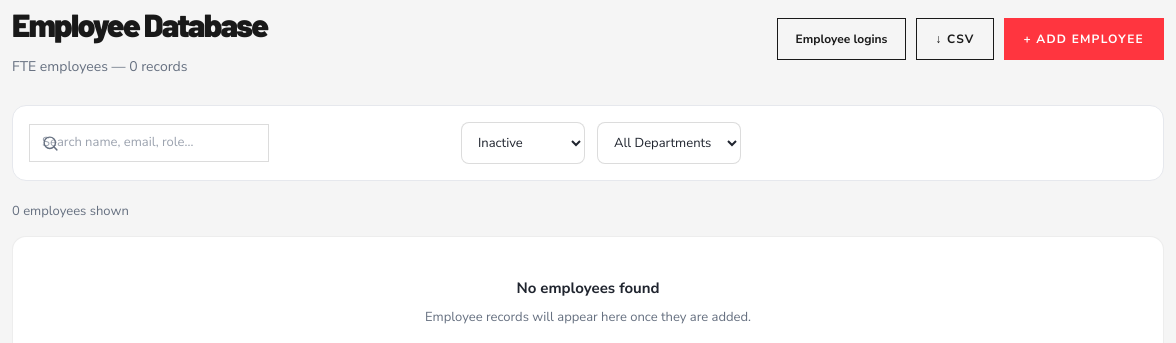
Test: clear filters restores the employee status filter and reloads the unfiltered list
Later steps or results of the test are not shown.
Select "Inactive" in the dropdown named "Employee status" at (523, 143), box [461,122,585,164]
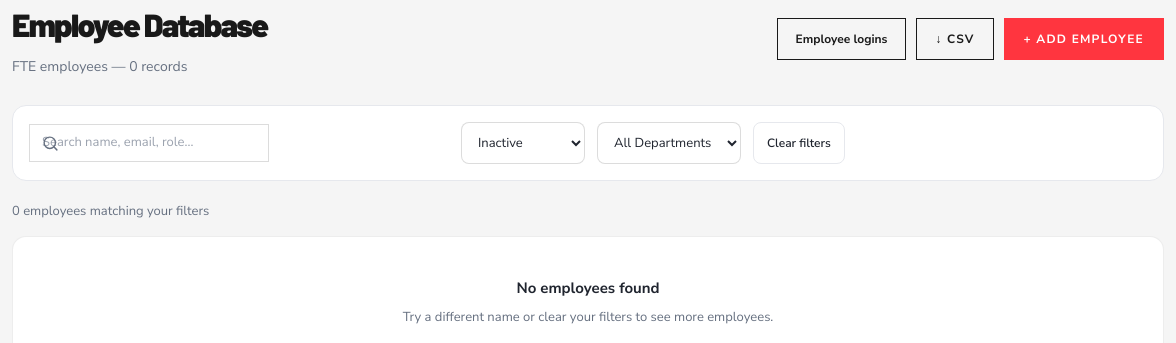
Expected: the text "Try a different name or clear your filters" is shown, [403,308,773,326]
